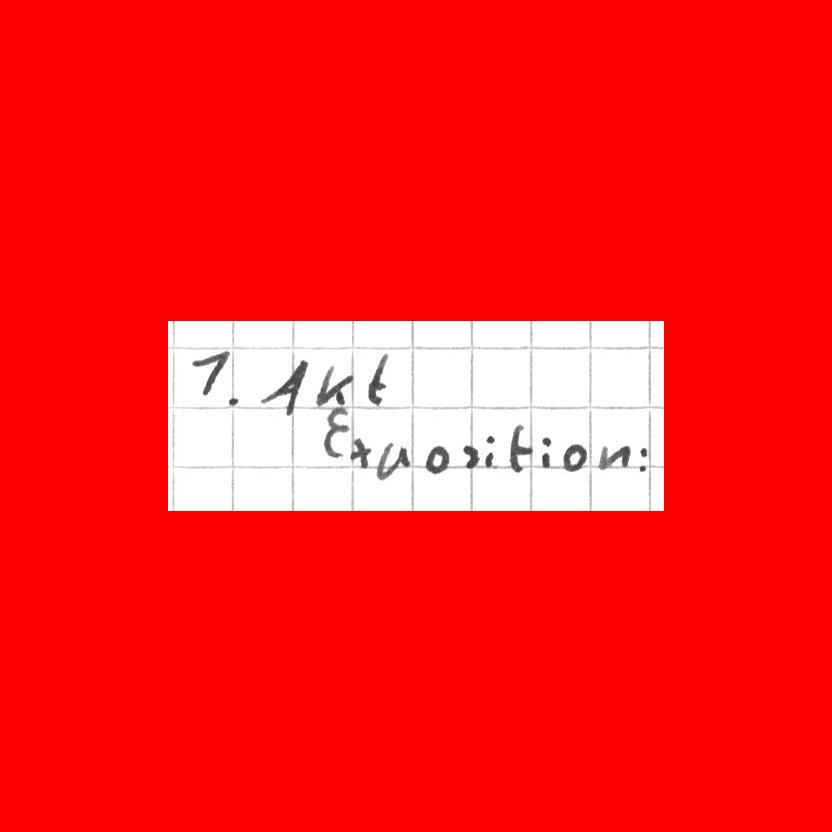Char: (256, 355, 310, 415), (190, 346, 230, 402), (313, 359, 353, 412), (361, 350, 391, 408), (376, 439, 410, 479), (507, 422, 531, 476), (321, 413, 347, 457), (596, 440, 629, 472), (423, 443, 451, 475), (562, 440, 586, 472), (350, 436, 372, 467), (461, 443, 481, 469), (483, 433, 497, 469), (539, 435, 553, 468), (637, 443, 649, 474), (224, 394, 242, 410)
